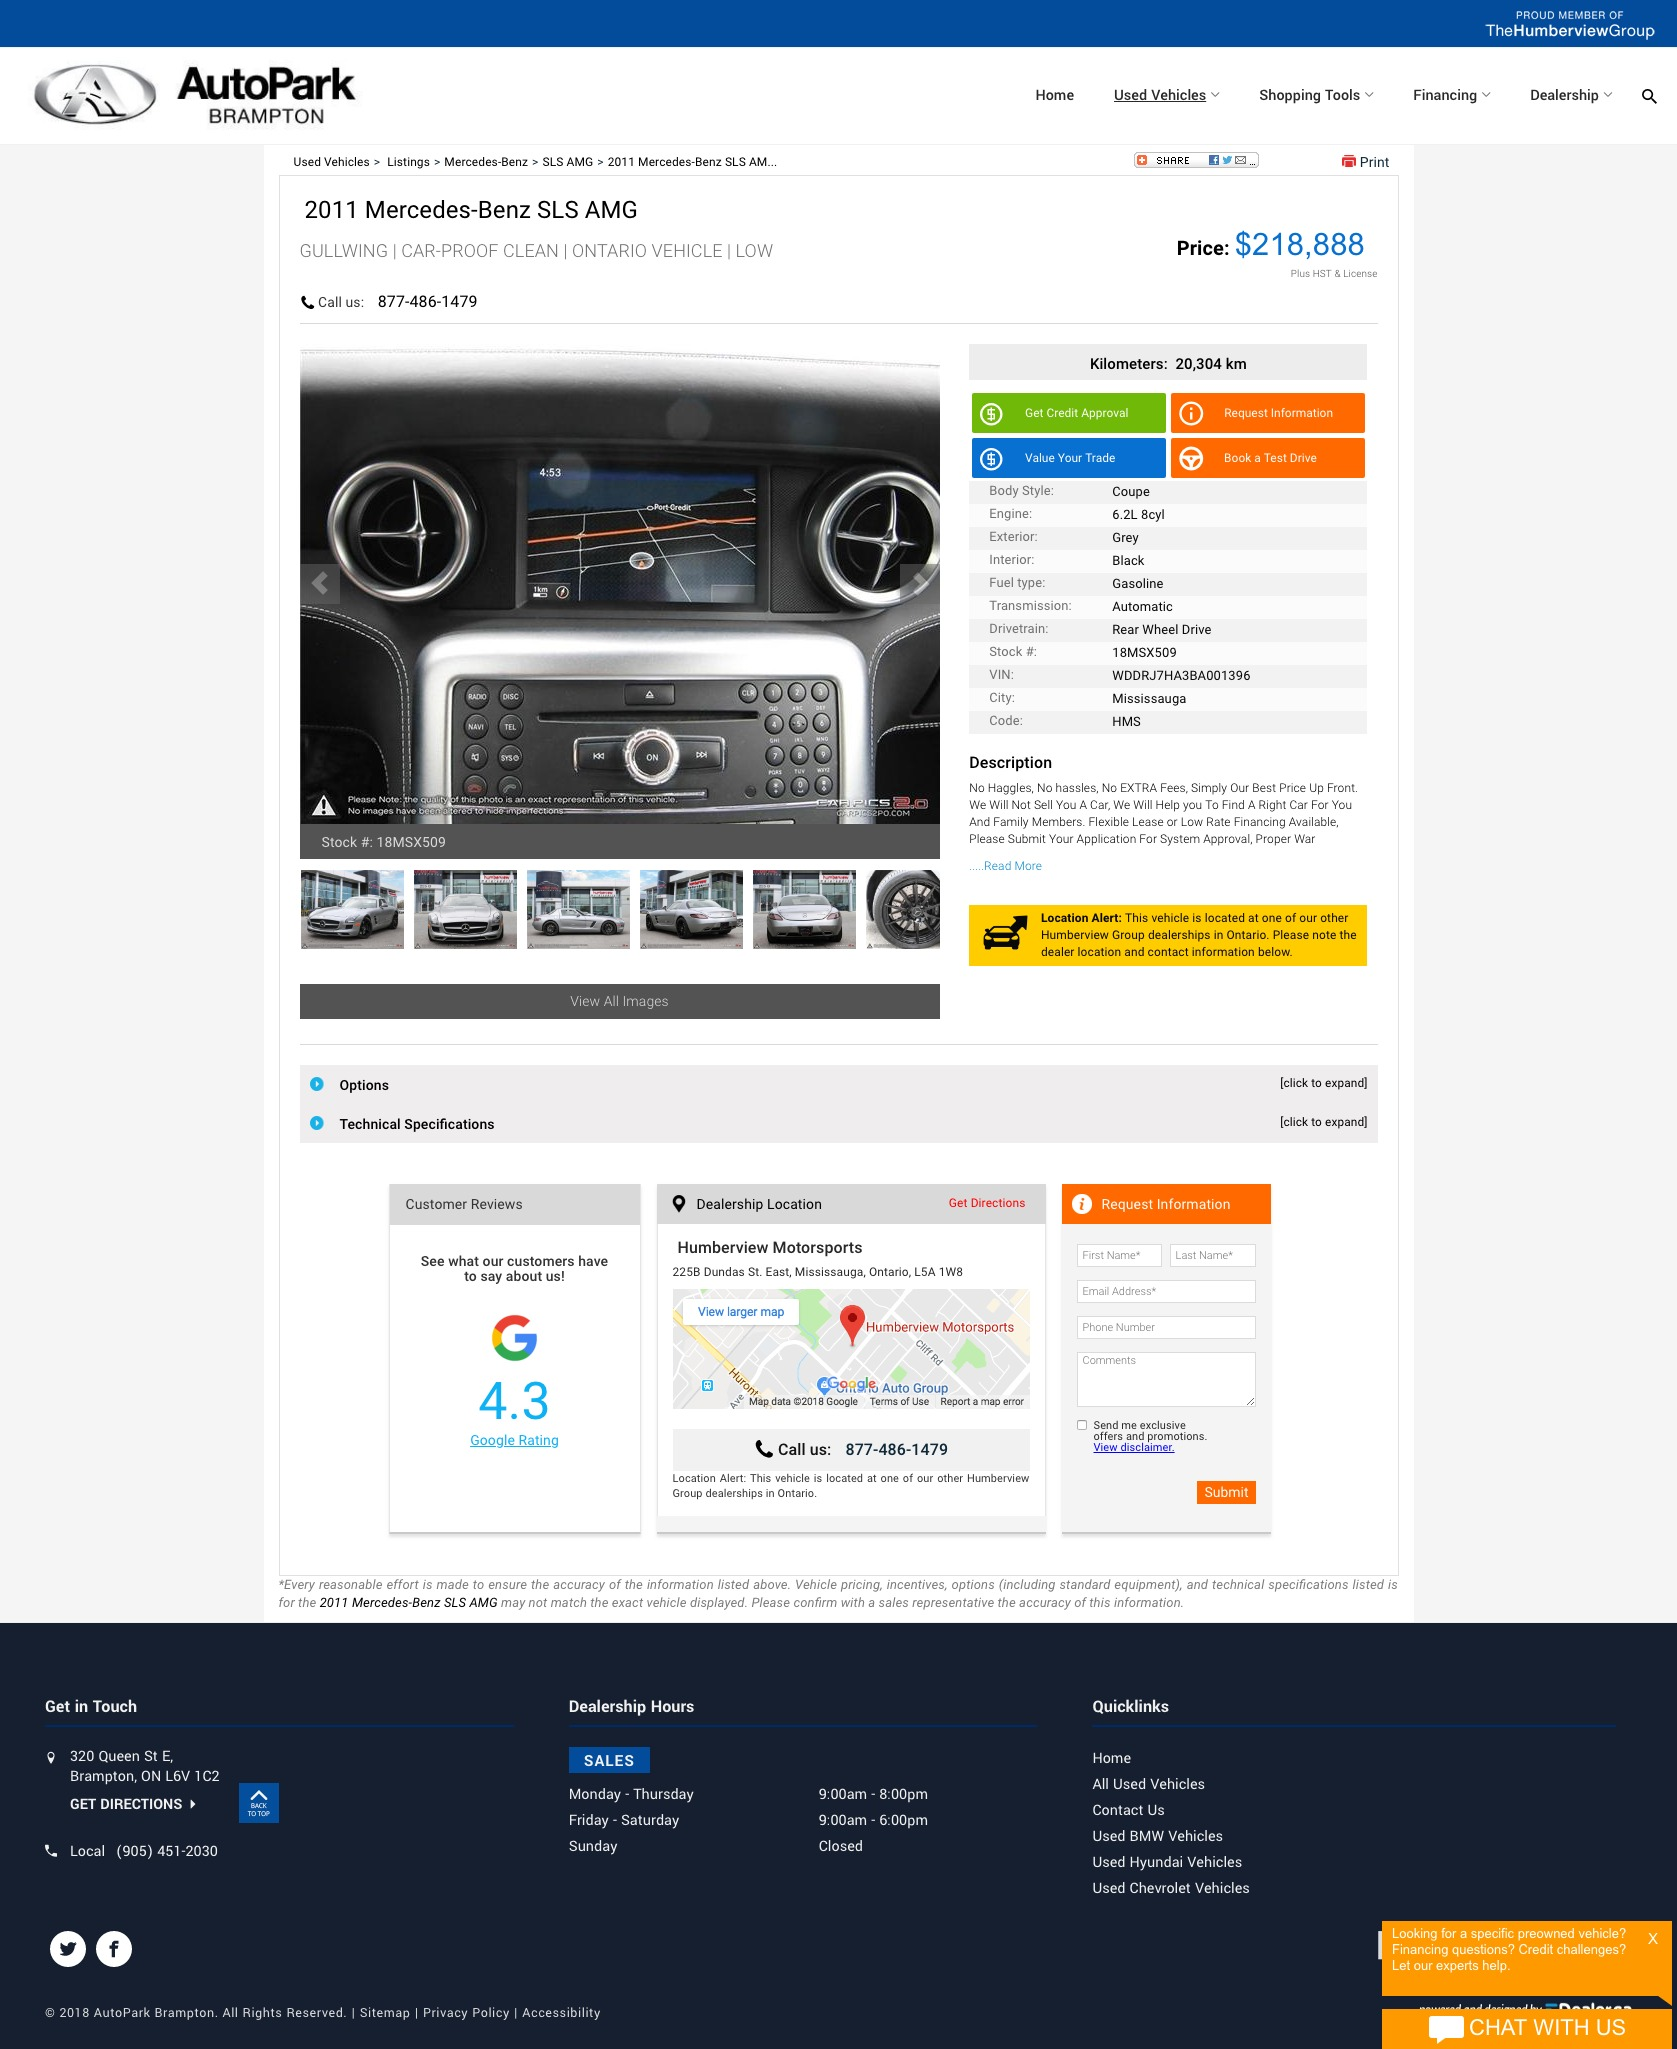car: (901, 563, 943, 608)
